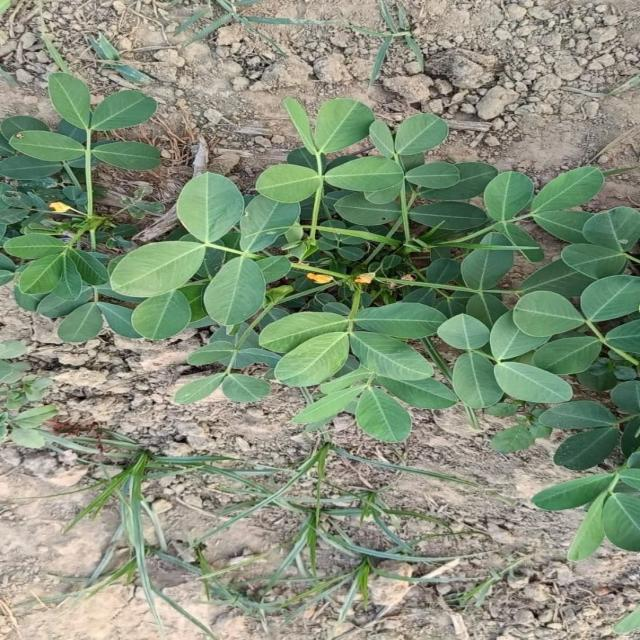plant: (0, 72, 639, 560)
